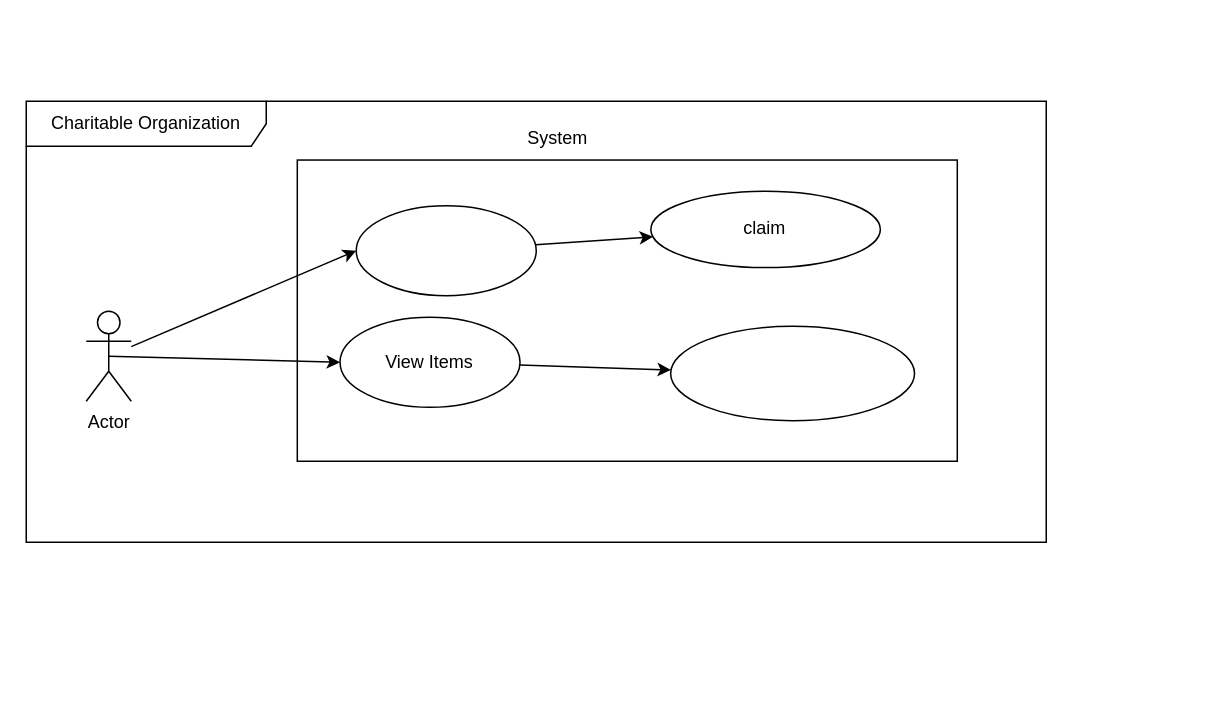
Image size: 1215x711. Some labels were removed from this diagram. Here are the shapes that lost their labels. From the top down, the centre of each, then its label:
At point 445,250: "modify".
At point 792,373: "Surplus / Non Surplus".
